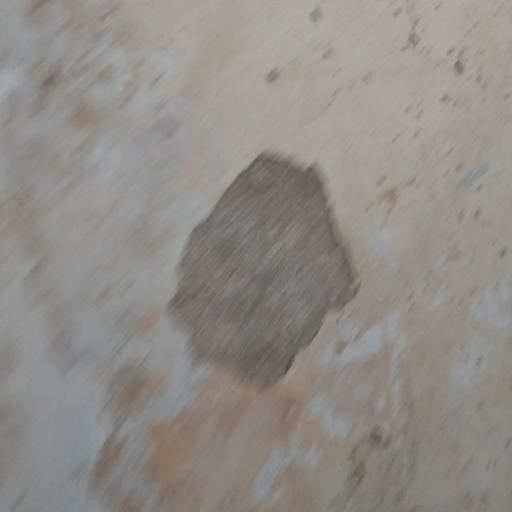peeling: (158, 135, 374, 401)
